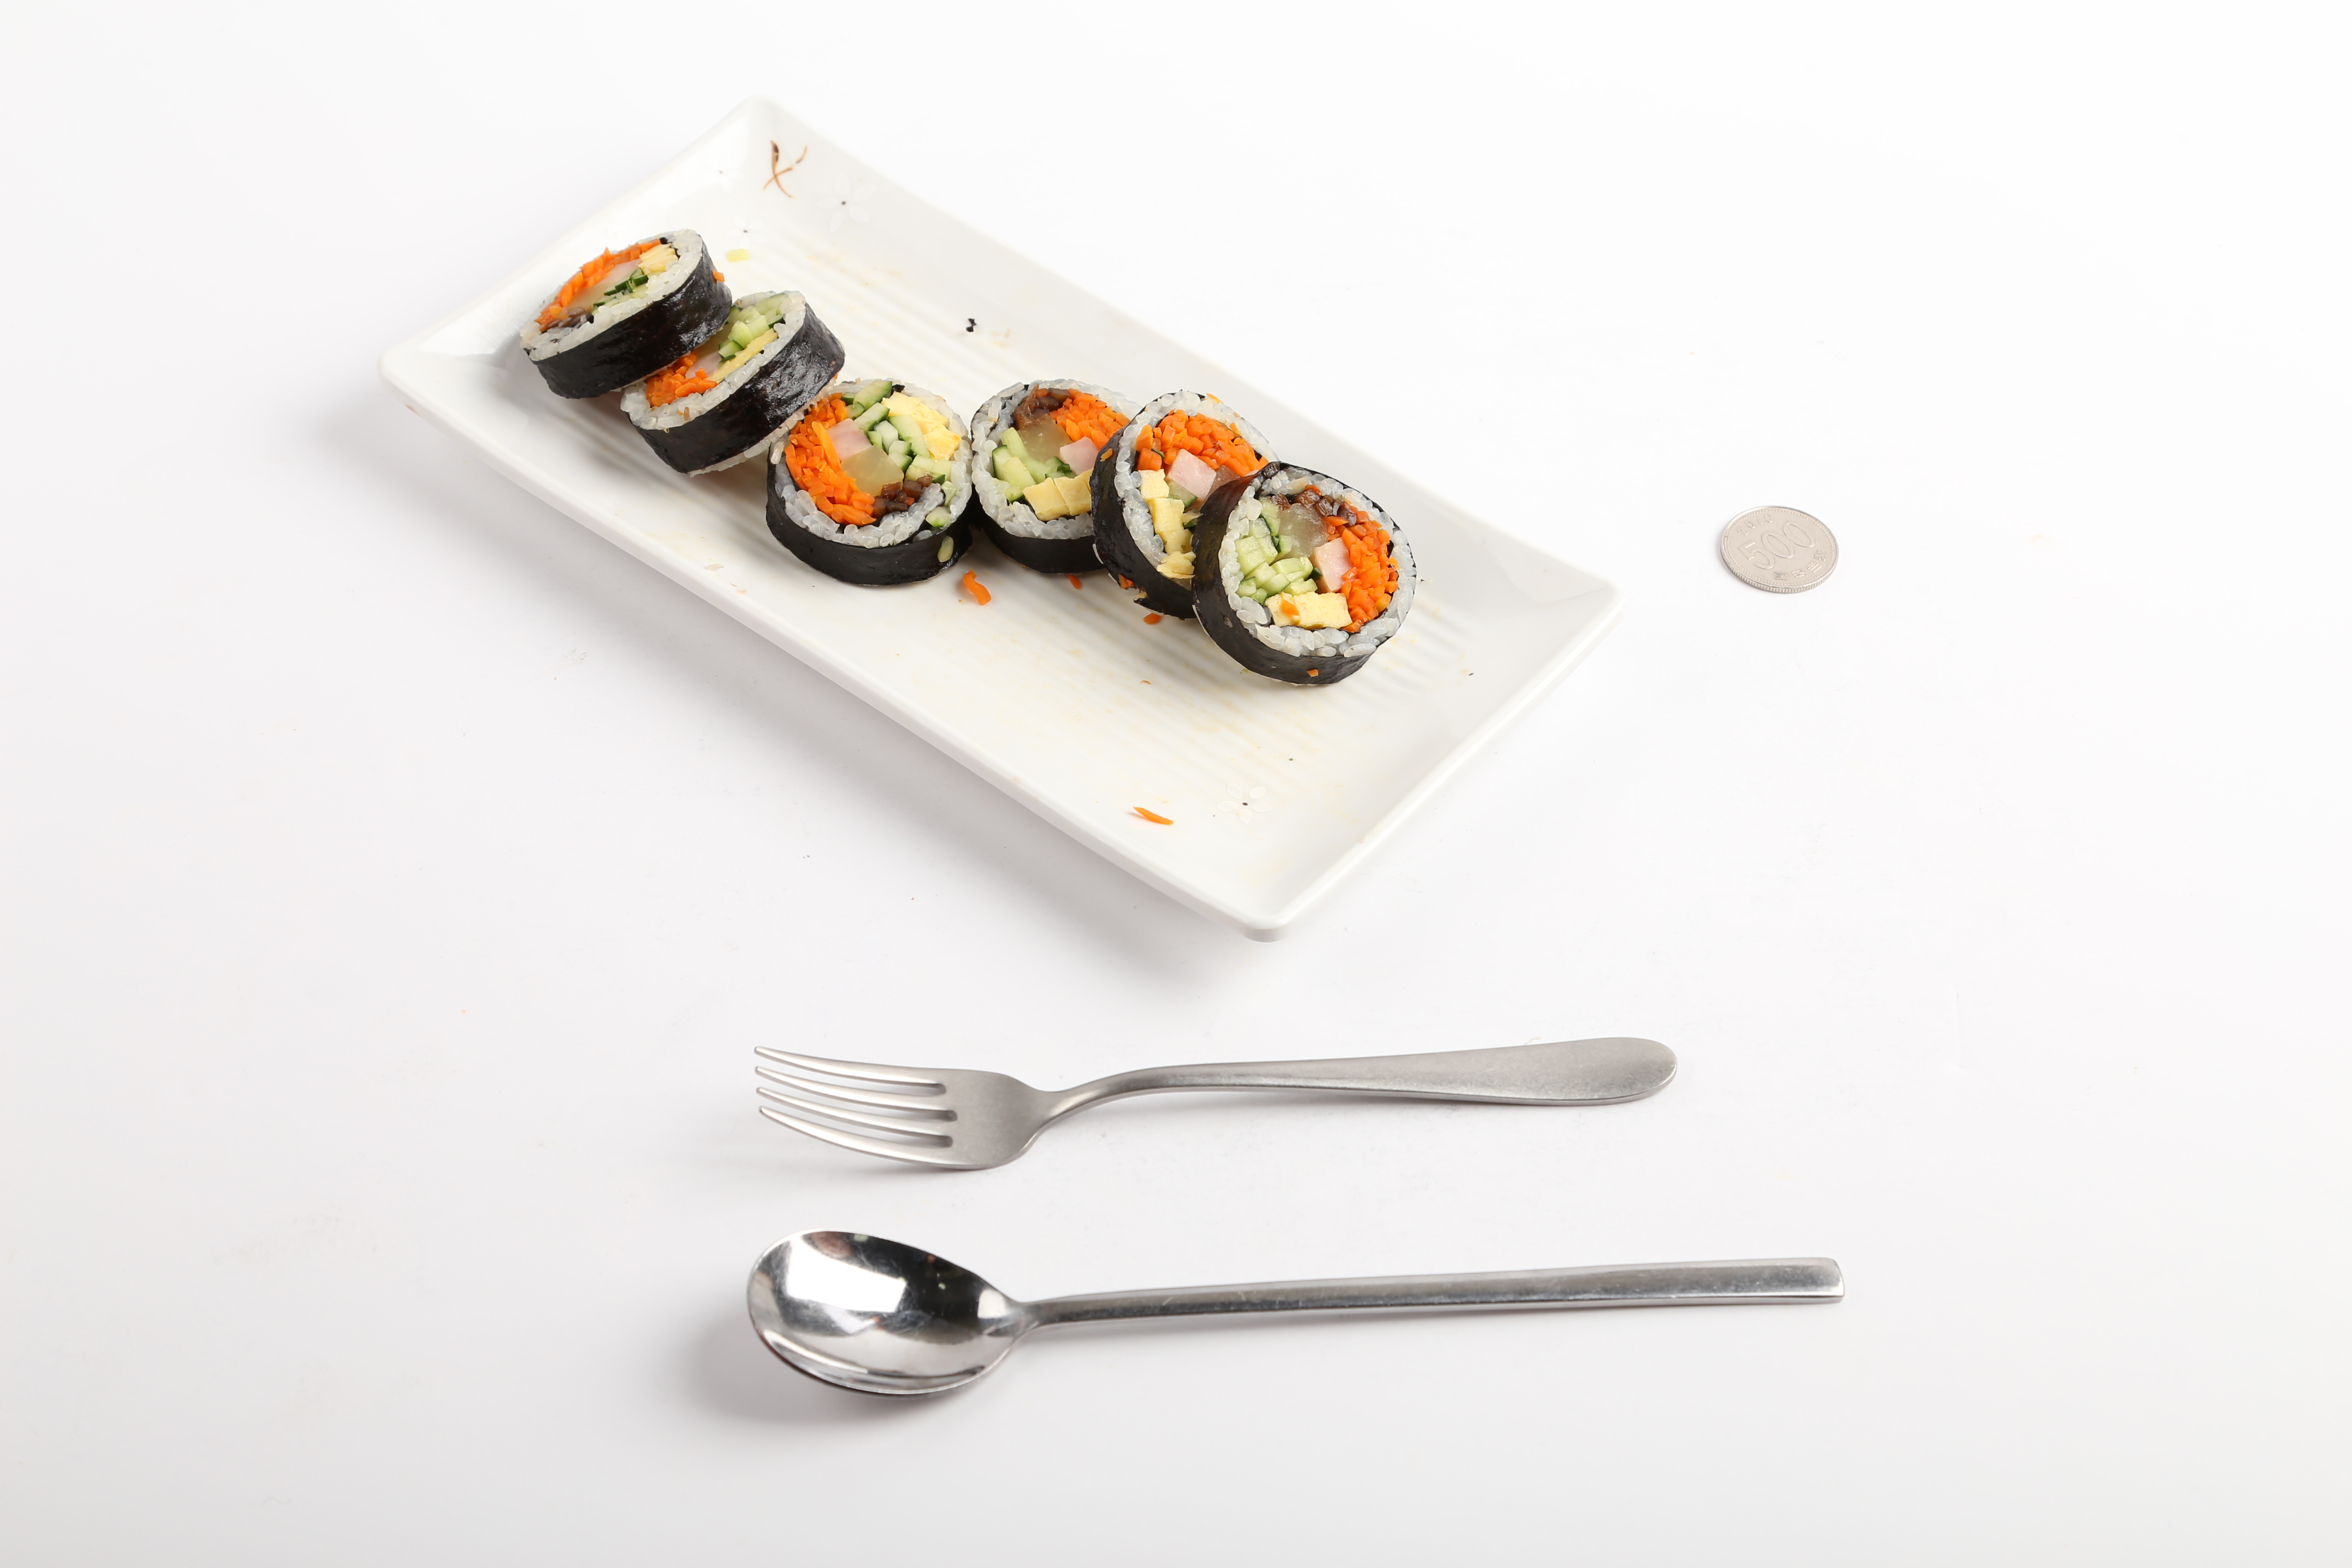dish: (367, 87, 1626, 943)
ref_coin: (1717, 502, 1839, 604)
ref_fork: (754, 1039, 1129, 1172)
ref_spoon: (740, 1221, 1122, 1400)
김밥: (521, 224, 1424, 684)
